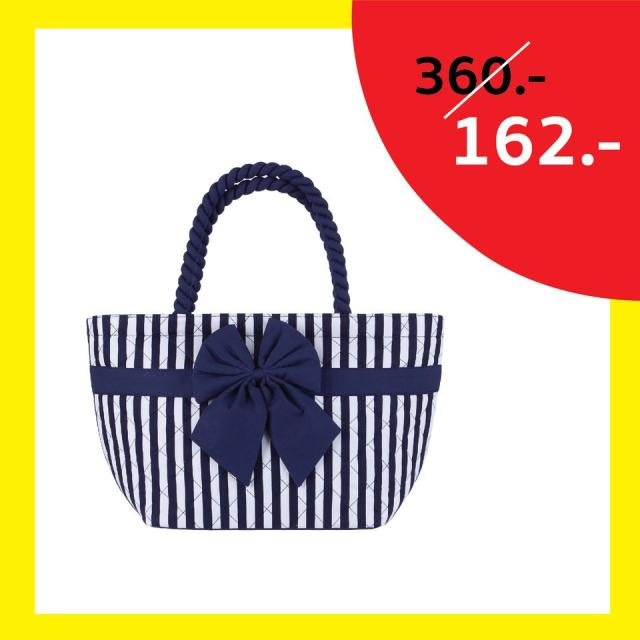bag: (62, 136, 474, 558)
